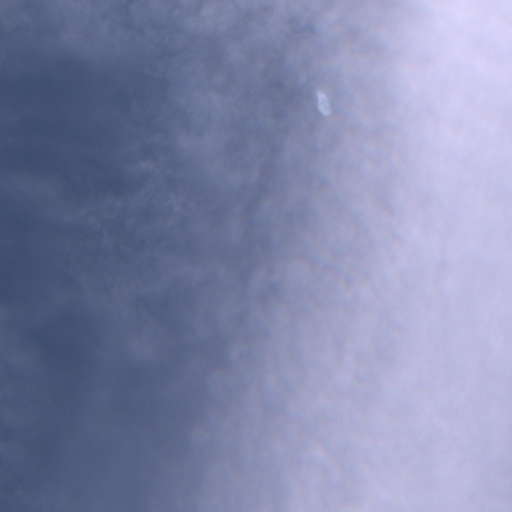Iceberg: (318, 91, 329, 115)
